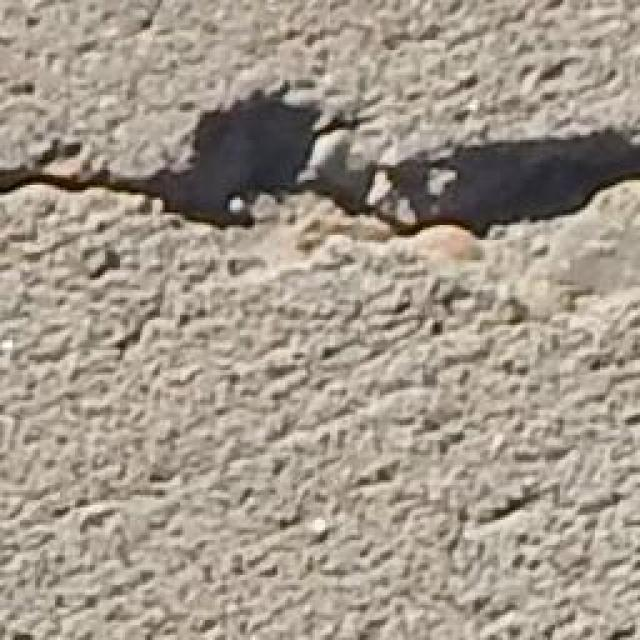concrete-crack: (0, 78, 639, 251)
